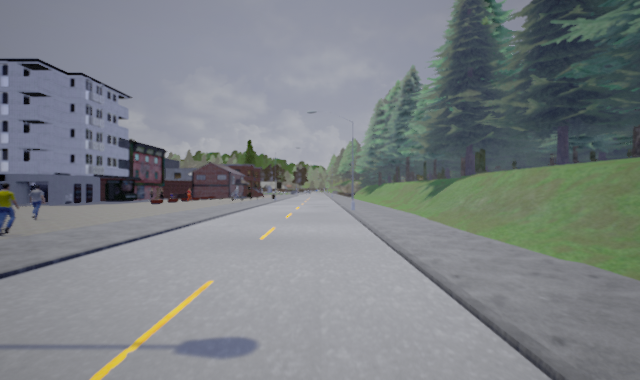pedestrian: (1, 180, 24, 236), (23, 183, 46, 220)
